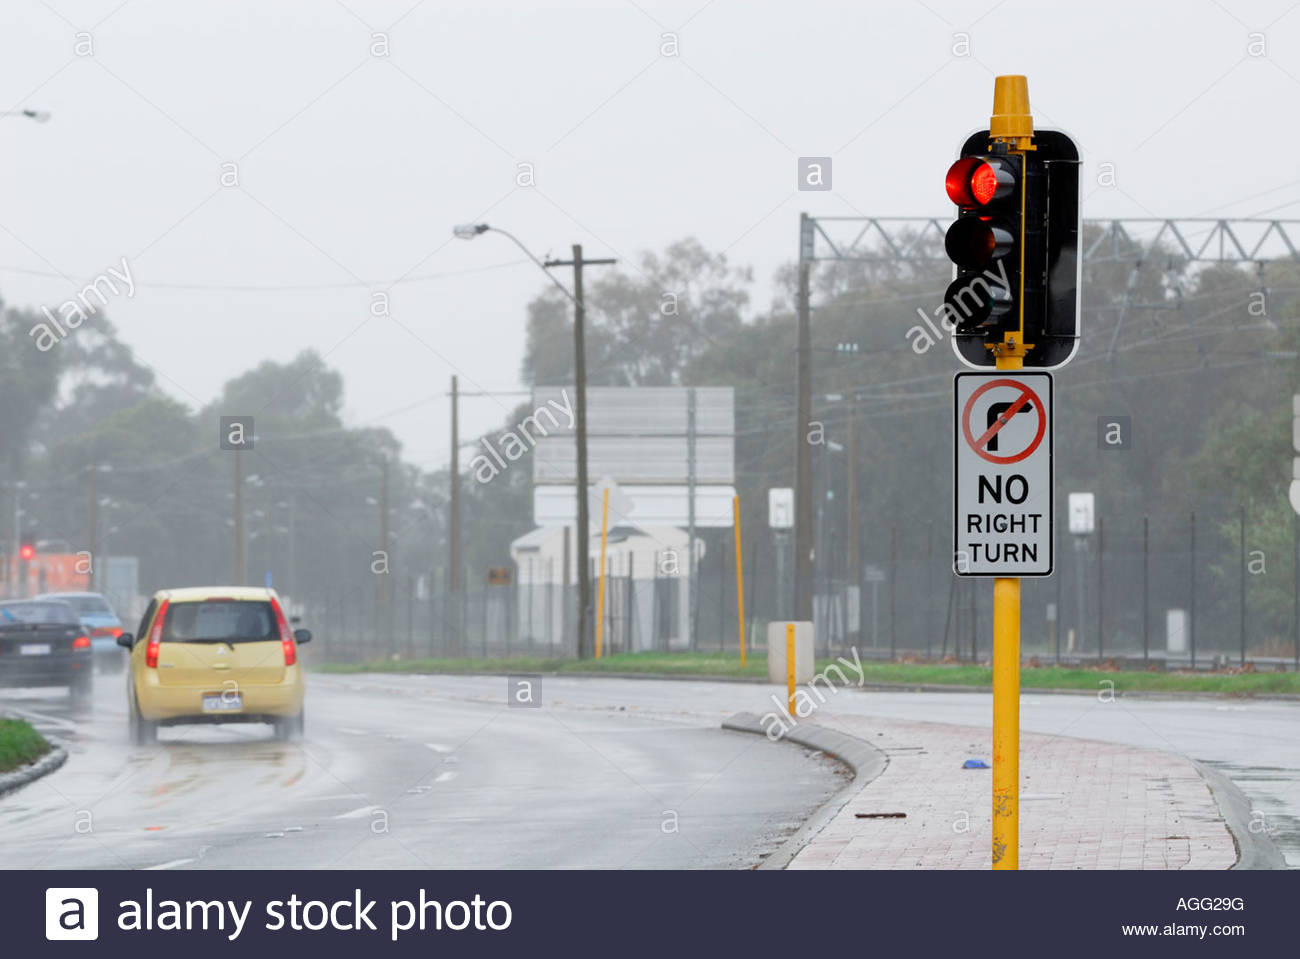No_right_turn: (964, 379, 1046, 464)
